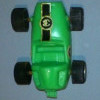verde_norte: (12, 3, 87, 96)
